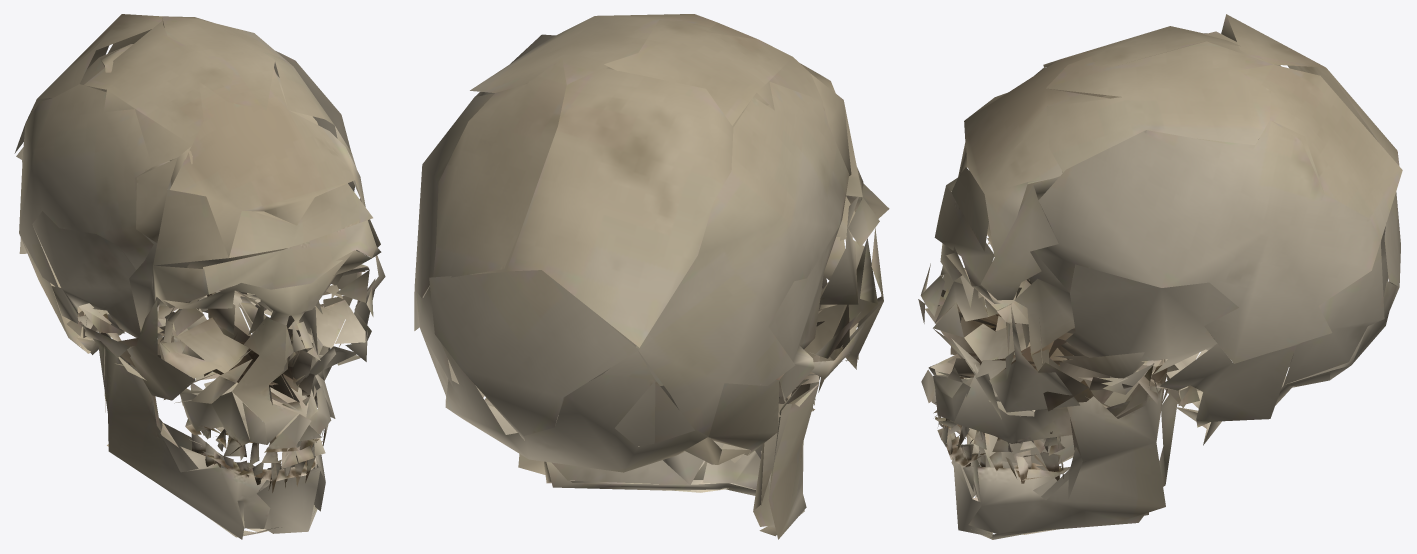
Rendered from skull.glb.
The picture shows the model from 3 angles, left to right: view 1: azimuth 30°, elevation 25°; view 2: azimuth 150°, elevation 25°; view 3: azimuth 270°, elevation 25°; orthographic projection. The views are drawn at different scales.
Parts seen in each view (by area): view 1: skull; view 2: skull; view 3: skull.
Part boxes in pixels (x1,y1,x2,y2): skull: [14, 14, 385, 539]; skull: [414, 14, 889, 539]; skull: [918, 14, 1402, 539].
Size of the model in its own units: 0.1434 by 0.2151 by 0.1994.
1 material, 1 textured.
